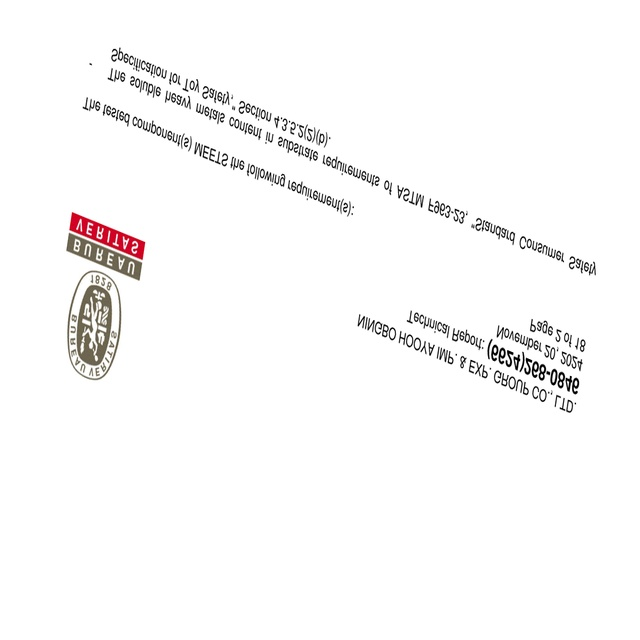bureau_veritas: (64, 208, 147, 386)
